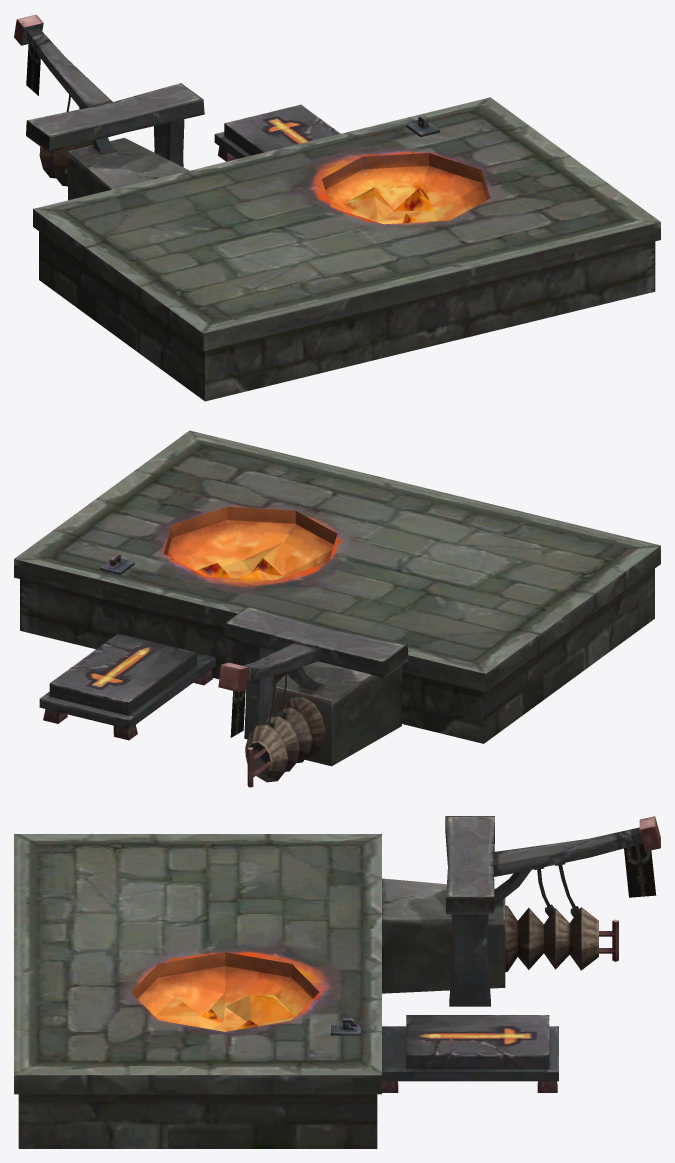
File: tiejiang4.FBX
The picture shows the model from 3 angles, top to bottom: view 1: azimuth 30°, elevation 25°; view 2: azimuth 150°, elevation 25°; view 3: azimuth 270°, elevation 25°; orthographic projection. The views are drawn at different scales.
Parts seen in each view (by area): view 1: Mesh_0097; view 2: Mesh_0097; view 3: Mesh_0097.
Boxes of the visible parts, left/top/right/bottom form: Mesh_0097: left=14, top=14, right=660, bottom=401; Mesh_0097: left=14, top=430, right=660, bottom=787; Mesh_0097: left=14, top=816, right=660, bottom=1148.
Size of the model in its own units: 1.21 by 0.3566 by 1.38.
